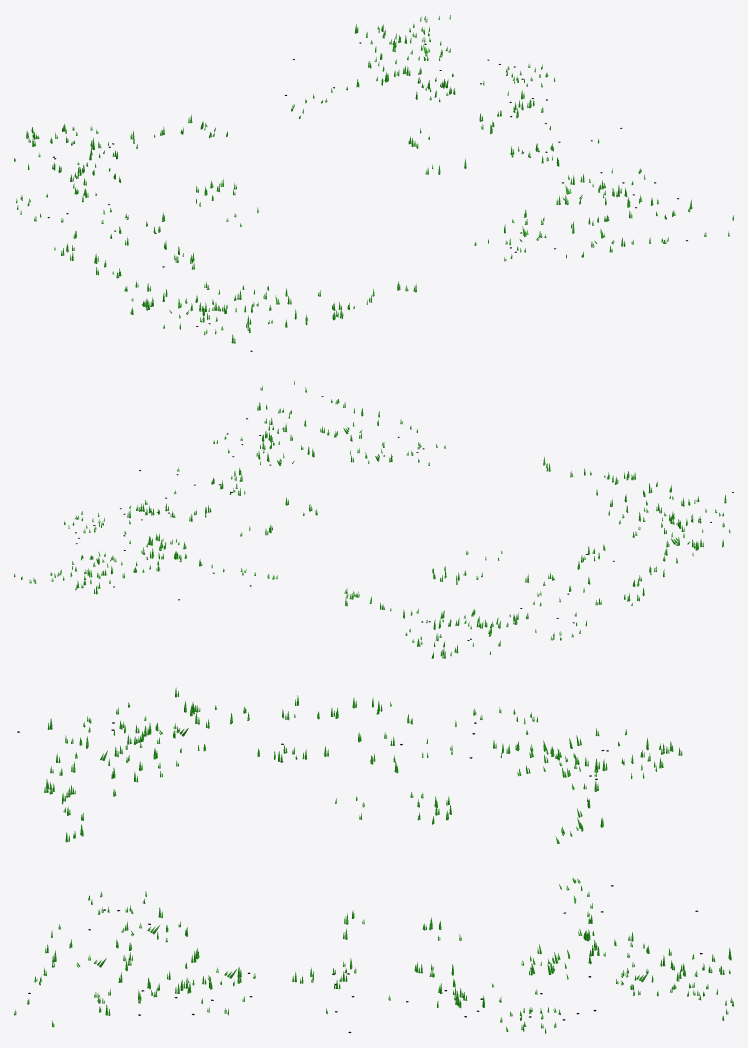
The model's file is flower_grass.fbx.
The picture shows the model from 3 angles, top to bottom: view 1: azimuth 30°, elevation 25°; view 2: azimuth 150°, elevation 25°; view 3: azimuth 270°, elevation 25°; orthographic projection. The views are drawn at different scales.
Parts seen in each view (by area): view 1: FoliageInstancedStaticMeshComponent_26; view 2: FoliageInstancedStaticMeshComponent_26; view 3: FoliageInstancedStaticMeshComponent_26.
Boxes of the visible parts, <box> form: FoliageInstancedStaticMeshComponent_26: <box>14,15,733,343</box>; FoliageInstancedStaticMeshComponent_26: <box>14,380,730,658</box>; FoliageInstancedStaticMeshComponent_26: <box>14,687,733,1033</box>.
Size of what is drawn, in the model's own units: 565 by 515 by 49.65.
